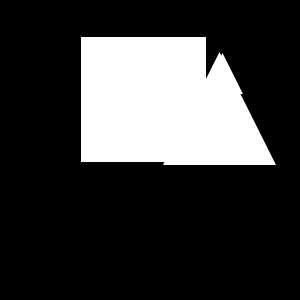circle: (81, 37, 206, 162)
triangle: (163, 52, 276, 165), (180, 56, 256, 132), (202, 53, 243, 94)
